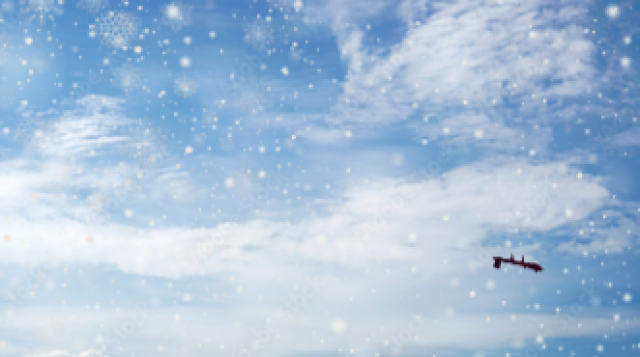military drone: (490, 252, 544, 273)
